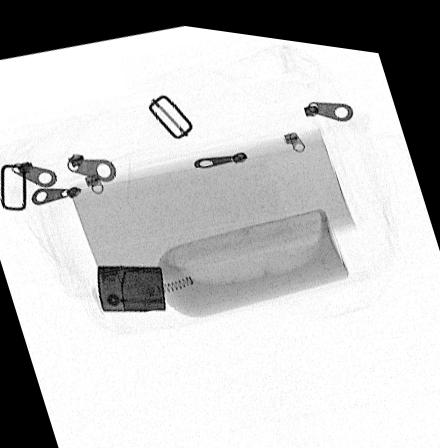Lighter: (97, 262, 167, 308)
